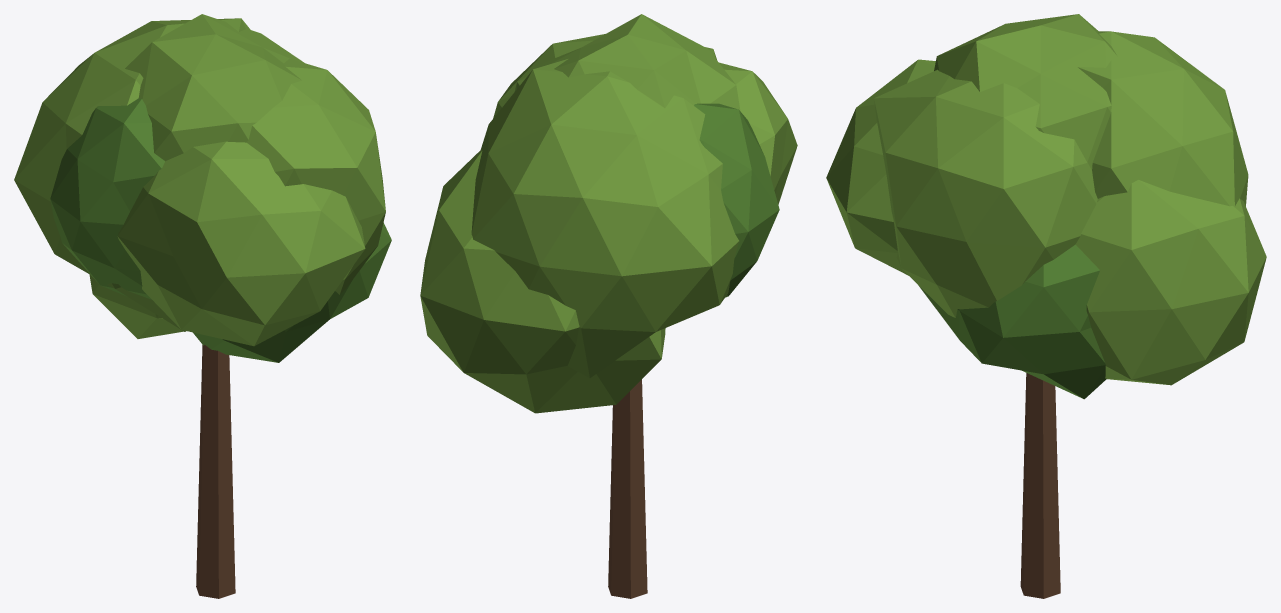
File: tree_green.glb
The picture shows the model from 3 angles, left to right: view 1: azimuth 30°, elevation 25°; view 2: azimuth 150°, elevation 25°; view 3: azimuth 270°, elevation 25°; orthographic projection.
Parts seen in each view (by area): view 1: tree_green; view 2: tree_green; view 3: tree_green.
Part boxes in pixels (bbox=[...]): tree_green: bbox=[14, 14, 391, 598]; tree_green: bbox=[420, 14, 797, 598]; tree_green: bbox=[826, 14, 1266, 598].
Bounding box in the file's own units: 5.16 × 9.09 × 6.43.
